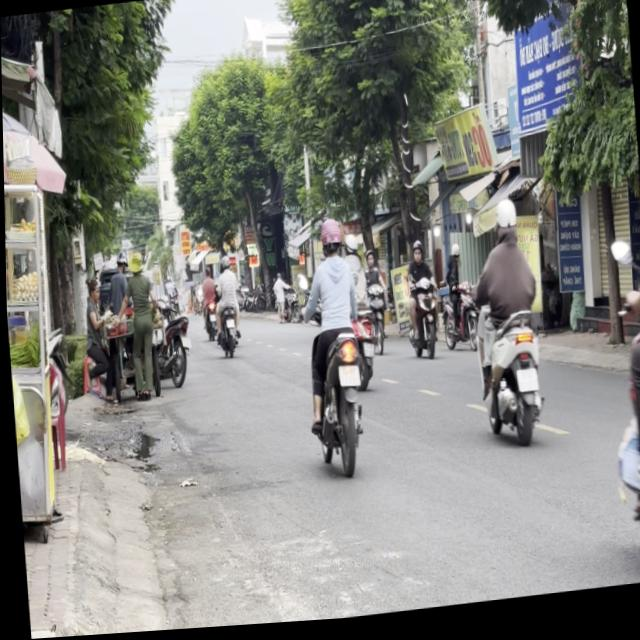helmet: (491, 202, 518, 250), (317, 219, 343, 261)
licenseplate: (292, 214, 375, 481), (463, 198, 548, 453)
nohelmet: (514, 374, 536, 398), (336, 367, 358, 391)
